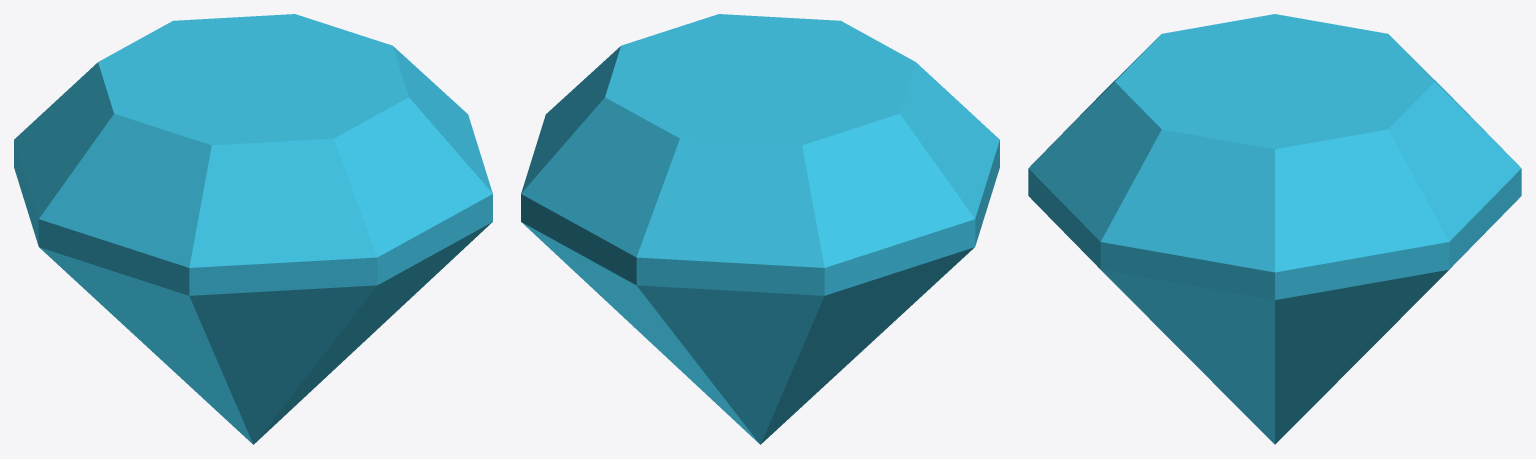
File: Diamond1.fbx
3 renders of one model, left to right at view 1: azimuth 30°, elevation 25°; view 2: azimuth 150°, elevation 25°; view 3: azimuth 270°, elevation 25°, orthographic.
Parts seen in each view (by area): view 1: Cone.001; view 2: Cone.001; view 3: Cone.001.
Part boxes in pixels (box(x1,y1,x2,y2)): Cone.001: box(14, 14, 492, 444); Cone.001: box(521, 14, 999, 444); Cone.001: box(1028, 14, 1521, 444).
Size of the model in its own units: 91.78 by 74.61 by 91.78.
